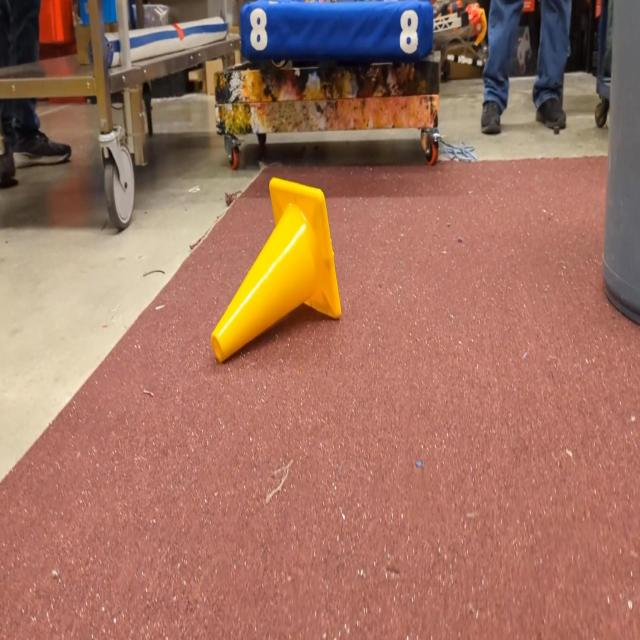frc_cone: (209, 175, 342, 364)
